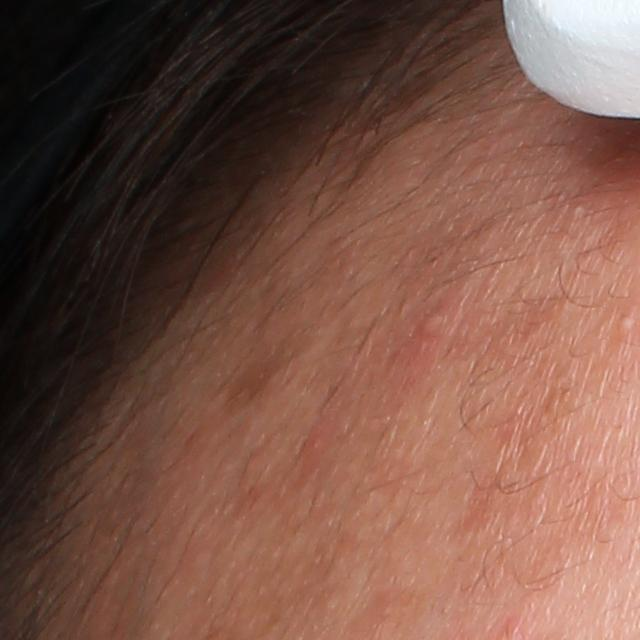comedo: (612, 311, 639, 332)
papule: (410, 303, 463, 353)
